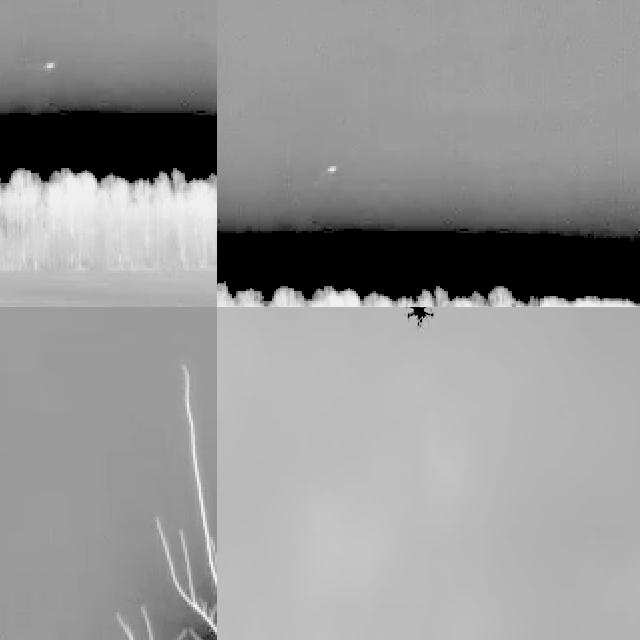1: (318, 156, 342, 181), (37, 52, 59, 74)
drone: (402, 307, 437, 334)
